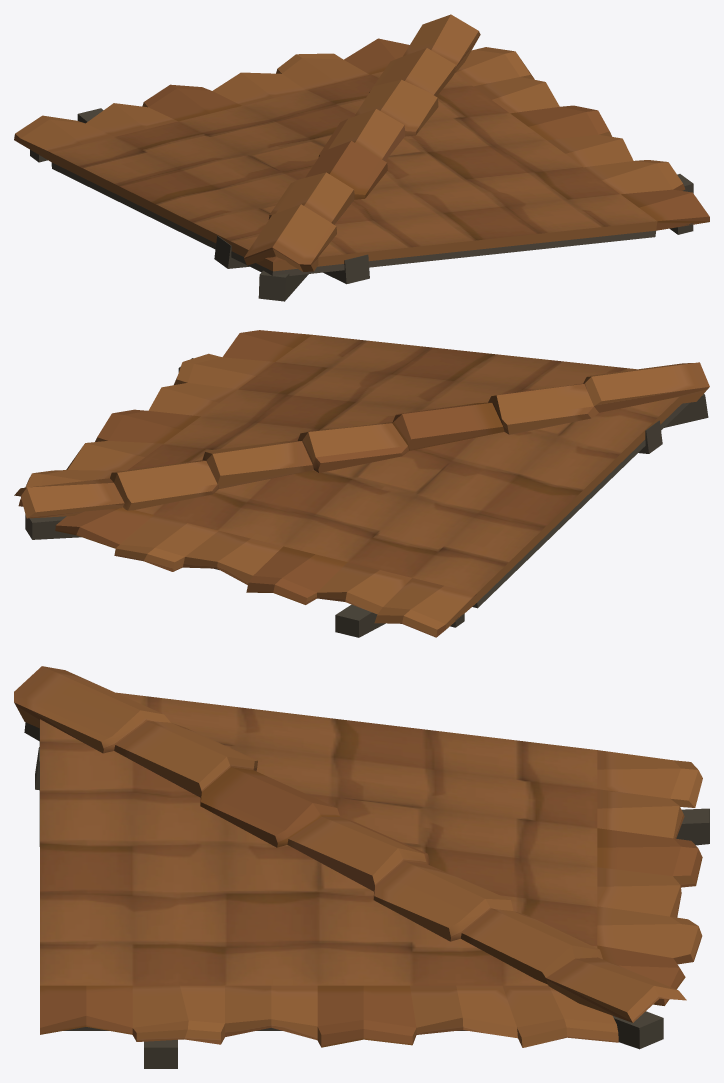
The model's file is kingdom_SM_Bld_House_Roof_Tile_Cover_Corner_01.gltf.
3 renders of one model, top to bottom at view 1: azimuth 30°, elevation 25°; view 2: azimuth 150°, elevation 25°; view 3: azimuth 270°, elevation 25°, orthographic. The views are drawn at different scales.
Visible parts, largest first — view 1: SM_Bld_House_Roof_Tile_Cover_Corner_01; view 2: SM_Bld_House_Roof_Tile_Cover_Corner_01; view 3: SM_Bld_House_Roof_Tile_Cover_Corner_01.
Boxes of the visible parts, x1=… form: SM_Bld_House_Roof_Tile_Cover_Corner_01: x1=14, y1=14, x2=709, y2=301; SM_Bld_House_Roof_Tile_Cover_Corner_01: x1=14, y1=330, x2=709, y2=637; SM_Bld_House_Roof_Tile_Cover_Corner_01: x1=14, y1=666, x2=709, y2=1068.
Bounding box in the file's own units: 4.4 × 0.9327 × 4.39.
1 material, 1 textured.
